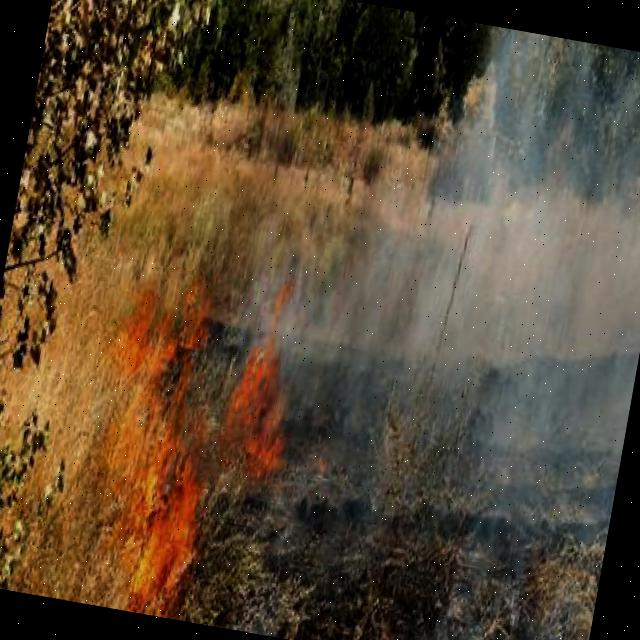fire: (81, 254, 231, 602), (214, 295, 306, 490)
